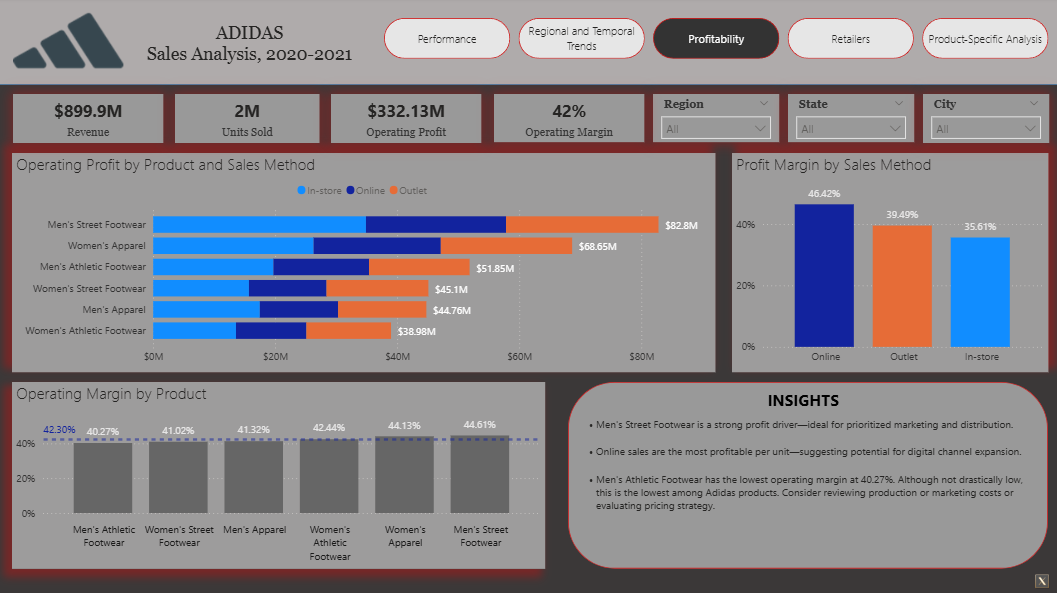

What the dashboard file says about the page in this screenshot:
{"tool":"powerbi","page":{"name":"Profitability","canvas":[1280,720],"ordinal":2},"visuals":[{"type":"pageNavigator","box":[464.4,25.4,800.3,49.5],"z":0},{"type":"slicer","fields":{"Values":["Data.Region"]},"box":[788,116.5,151.8,58.3],"z":0,"group":"g1"},{"type":"slicer","fields":{"Values":["Data.State"]},"box":[950.4,116.5,151.8,58.3],"z":1000,"group":"g1"},{"type":"textbox","box":[168.6,25.3,268.5,61.4],"z":2000},{"type":"slicer","fields":{"Values":["Data.City"]},"box":[1113.4,116.5,151.9,59],"z":2000,"group":"g1"},{"type":"shape","box":[686.5,463,577.8,224.7],"z":2000,"group":"g2"},{"type":"card","fields":{"Values":["Sum(Data.Total Sales)"]},"box":[17.8,116.7,181.1,58.9],"z":3000,"group":"g1"},{"type":"barChart","title":"Operating Profit by Product and Sales Method","fields":{"Category":["Data.Product"],"Y":["Sum(Data.Operating Profit)"],"Series":["Data.Sales Method"]},"box":[17.4,187.4,847.1,263.6],"z":3000},{"type":"card","fields":{"Values":["Sum(Data.Units Sold)"]},"box":[213.4,116.7,174.4,58.9],"z":4000,"group":"g1"},{"type":"clusteredColumnChart","title":"Profit Margin by Sales Method","fields":{"Category":["Data.Sales Method"],"Y":["Avg(Data.Operating Margin)"]},"box":[883.3,187.4,381.4,263.6],"z":4000},{"type":"textbox","box":[869.1,467,200.7,42.8],"z":4000,"group":"g2"},{"type":"card","fields":{"Values":["Sum(Data.Operating Profit)"]},"box":[401.1,116.7,181.1,58.9],"z":5000,"group":"g1"},{"type":"clusteredColumnChart","title":"Operating Margin by Product","fields":{"Y":["Avg(Data.Operating Margin)"],"Category":["Data.Product"]},"box":[17.4,463,642.4,224.8],"z":5000},{"type":"group","id":"g1","title":"Group 2","box":[17.8,116.5,1247.5,59.1],"z":6000},{"type":"card","fields":{"Values":["Avg(Data.Operating Margin)"]},"box":[596.3,116.5,180.9,58.3],"z":6000,"group":"g1"},{"type":"group","id":"g2","title":"Group 2","box":[686.5,463,577.8,224.7],"z":7000},{"type":"image","box":[1233.9,687.9,45.5,32.1],"z":7001},{"type":"textbox","box":[697.8,500.4,558.1,165.9],"z":10000,"group":"g2"}]}

Visuals, with their boxes in screenshot pixels (x1, y1, x2, y2), scaled from the page's 1280x720 canvas onto the 1057x593 screenshot:
pageNavigator: [383, 21, 1044, 62]
slicer - Data.Region: [651, 96, 776, 144]
slicer - Data.State: [785, 96, 910, 144]
textbox: [139, 21, 361, 71]
slicer - Data.City: [919, 96, 1045, 145]
shape: [567, 381, 1044, 566]
card - Sum(Data.Total Sales): [15, 96, 164, 145]
"Operating Profit by Product and Sales Method" barChart: [14, 154, 714, 371]
card - Sum(Data.Units Sold): [176, 96, 320, 145]
"Profit Margin by Sales Method" clusteredColumnChart: [729, 154, 1044, 371]
textbox: [718, 385, 883, 420]
card - Sum(Data.Operating Profit): [331, 96, 481, 145]
"Operating Margin by Product" clusteredColumnChart: [14, 381, 545, 566]
"Group 2" group: [15, 96, 1045, 145]
card - Avg(Data.Operating Margin): [492, 96, 642, 144]
"Group 2" group: [567, 381, 1044, 566]
image: [1019, 567, 1056, 592]
textbox: [576, 412, 1037, 549]
